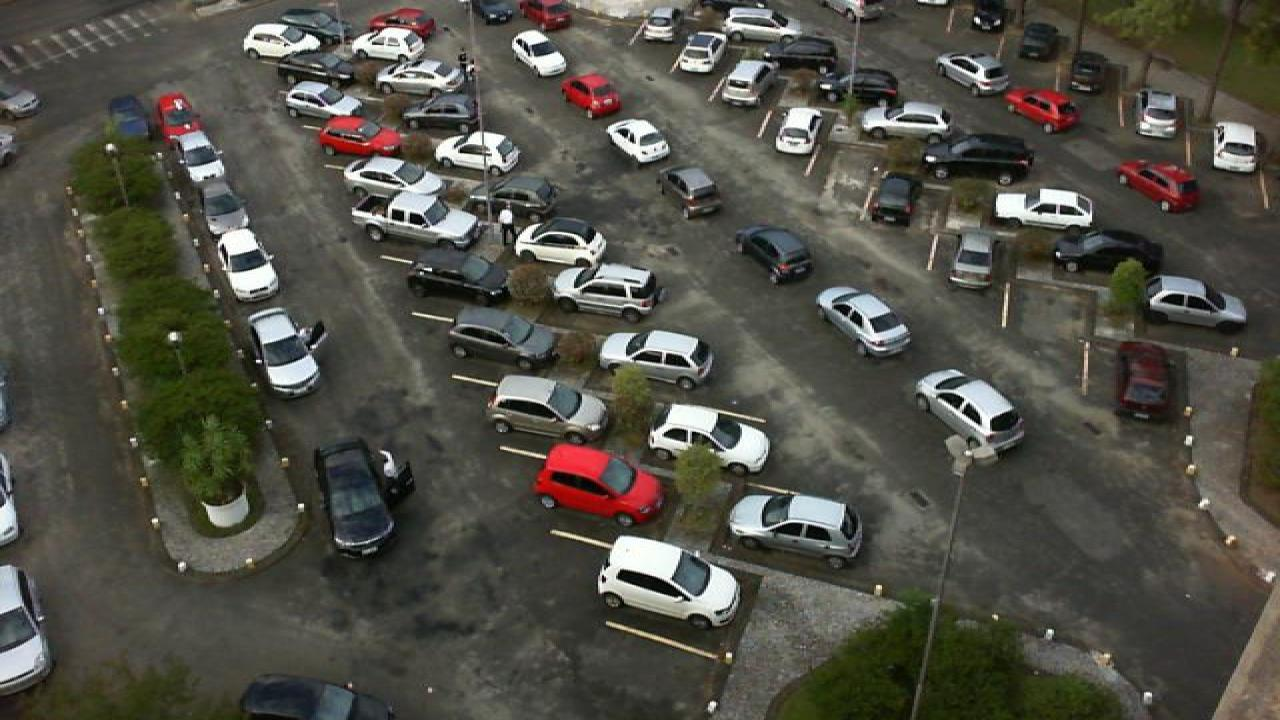Car: (594, 535, 744, 629), (312, 439, 416, 558), (530, 443, 666, 529), (724, 493, 864, 570), (912, 369, 1026, 458), (646, 404, 774, 477), (484, 373, 608, 444), (444, 304, 562, 377), (348, 190, 484, 250), (246, 307, 330, 399), (238, 674, 404, 720), (596, 328, 716, 391), (814, 285, 912, 360), (0, 564, 50, 698), (550, 262, 658, 321), (1142, 275, 1248, 334), (402, 251, 514, 306), (920, 130, 1034, 184), (514, 217, 610, 275), (1050, 228, 1158, 279), (1112, 340, 1176, 423), (734, 224, 814, 286), (464, 173, 560, 223), (990, 188, 1096, 233), (1114, 160, 1202, 214), (430, 129, 524, 179), (220, 229, 282, 302), (342, 156, 434, 202), (858, 99, 954, 142), (280, 81, 370, 126), (316, 116, 402, 161), (654, 166, 724, 221), (946, 231, 1004, 292), (272, 48, 358, 89), (1004, 88, 1080, 134), (604, 118, 672, 169), (402, 90, 480, 134), (240, 21, 324, 61), (862, 174, 924, 228), (934, 53, 1010, 97), (374, 57, 456, 97), (170, 130, 230, 184), (770, 34, 840, 80), (720, 4, 804, 42), (202, 177, 252, 235), (1210, 121, 1262, 176), (558, 72, 620, 118), (350, 26, 428, 62), (510, 30, 568, 78), (720, 60, 776, 108), (772, 106, 826, 155), (674, 30, 730, 76), (106, 94, 156, 142), (1134, 89, 1180, 139), (278, 6, 346, 38), (156, 92, 206, 135), (1066, 50, 1110, 98), (368, 7, 436, 36), (520, 0, 574, 33), (1020, 21, 1062, 61), (642, 6, 682, 42), (970, 0, 1012, 34), (820, 0, 882, 21), (476, 0, 522, 27)
